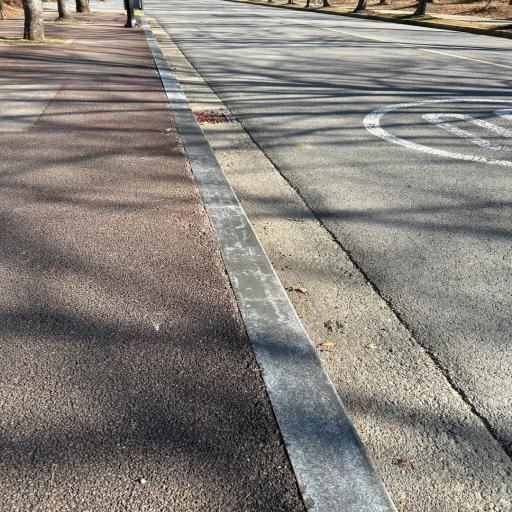debris: (195, 112, 210, 123)
drain: (195, 113, 228, 124)
